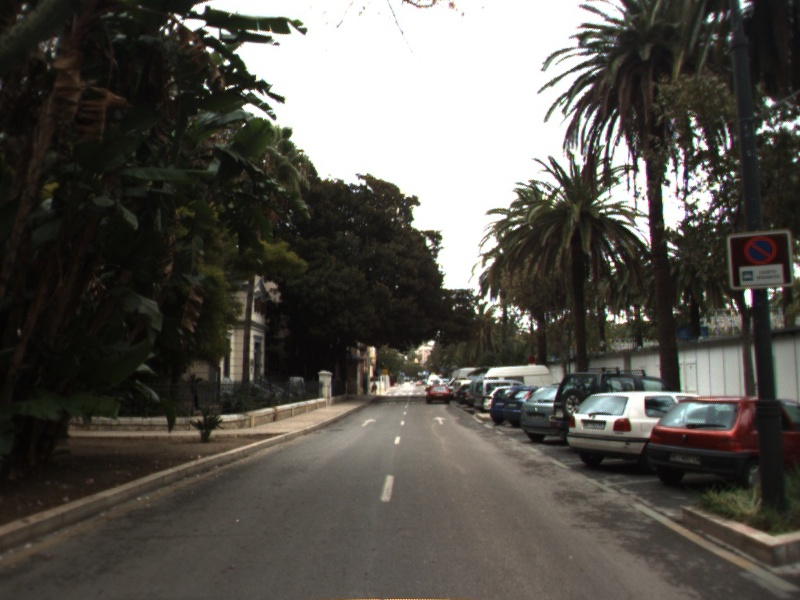STRAIGHT: (358, 415, 379, 428), (430, 414, 450, 426)
